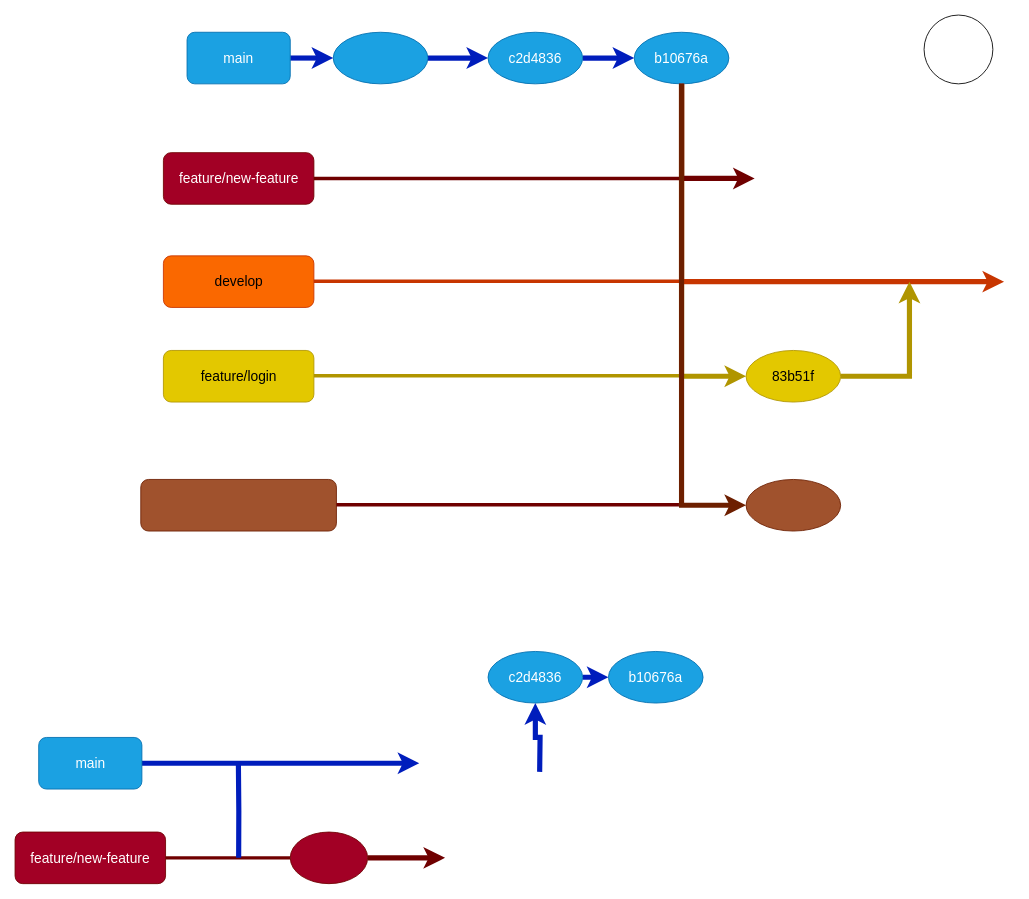
This 1029x899 diagram has some shape labels left out. The shapes that lost their labels are listed below. From the top down, each one's centre as x and y in pixels, then its label:
At (x=380, y=57): "c2cced5".
At (x=958, y=49): "HEAD".
At (x=238, y=505): "feature/advanced-feature".
At (x=793, y=505): "ac23cbb".
At (x=328, y=857): "5ee8442".
